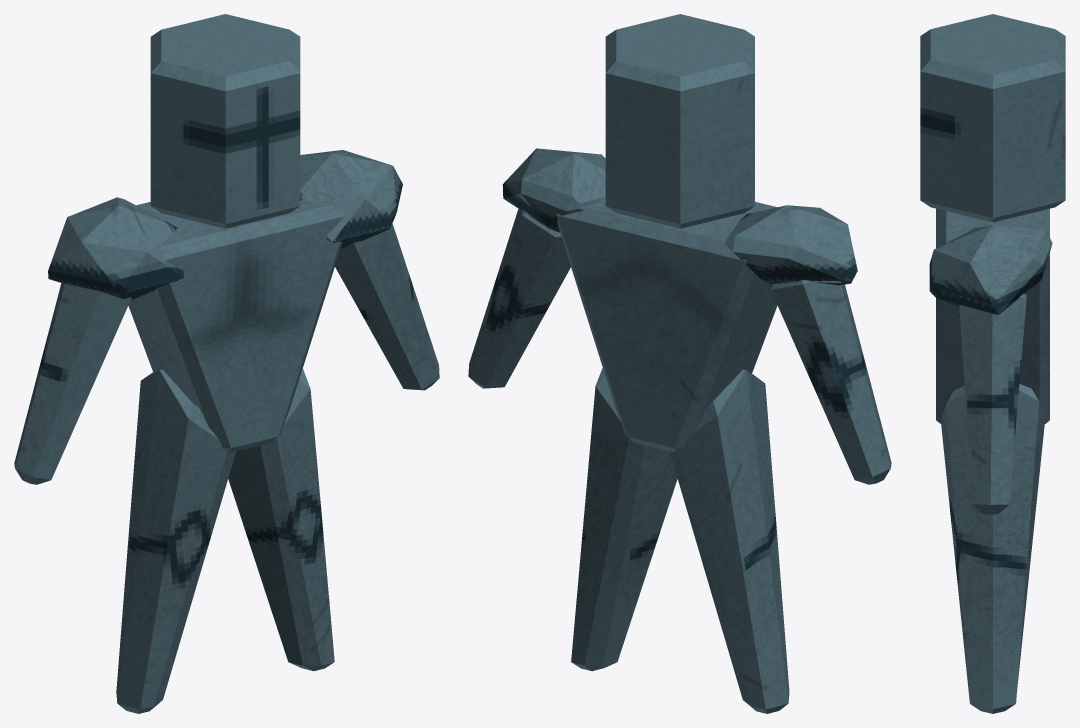
The model's file is knight.obj.
3 views of the same model, side by side, from view 1: azimuth 30°, elevation 25°; view 2: azimuth 150°, elevation 25°; view 3: azimuth 270°, elevation 25° (orthographic). The views are drawn at different scales.
Visible parts, largest first — view 1: Plane; view 2: Plane; view 3: Plane.
Part boxes in pixels (x1,y1,x2,y2): Plane: (14,14,439,713); Plane: (468,14,891,713); Plane: (920,14,1065,713).
Size of the model in its own units: 3.96 by 5.74 by 1.21.
